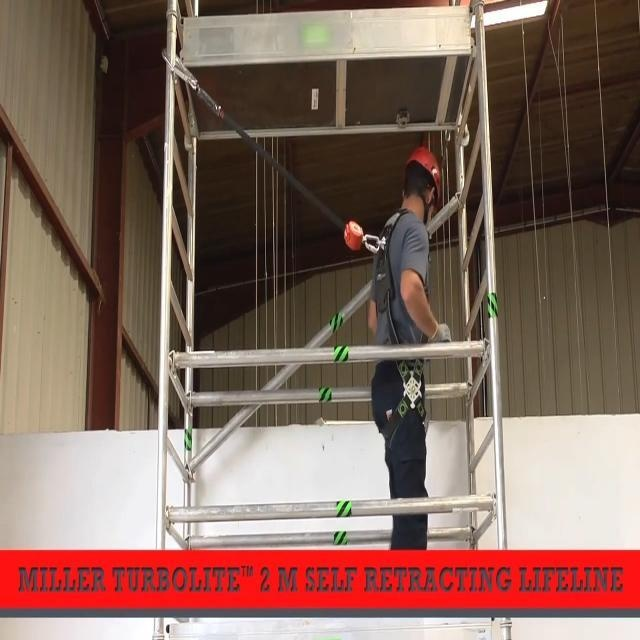Arnes_seguridad: (366, 199, 434, 467)
